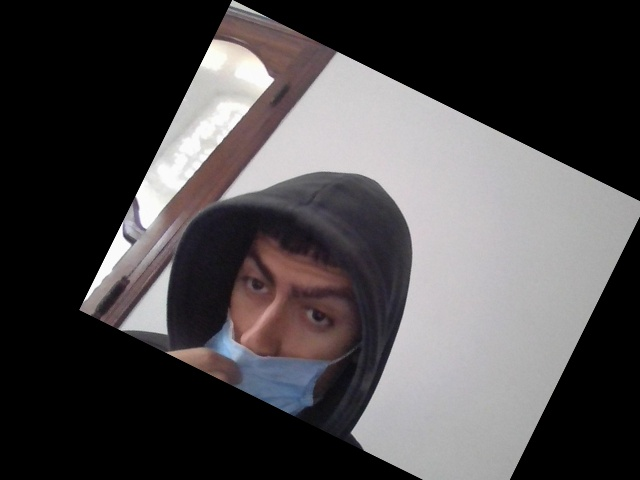mask_weared_incorrect: (219, 216, 373, 422)
